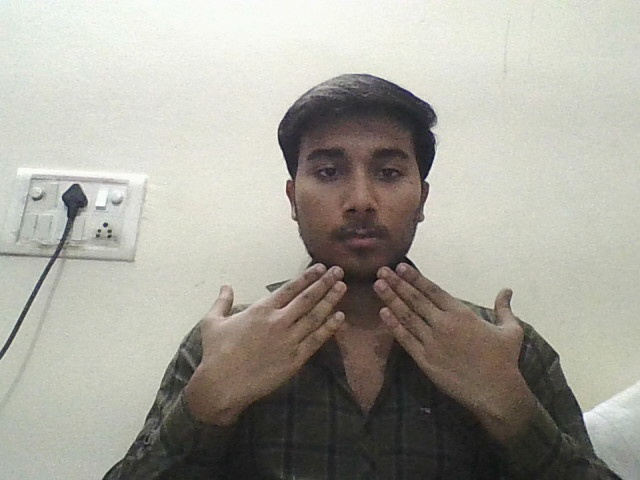thanks: (95, 251, 591, 427)
